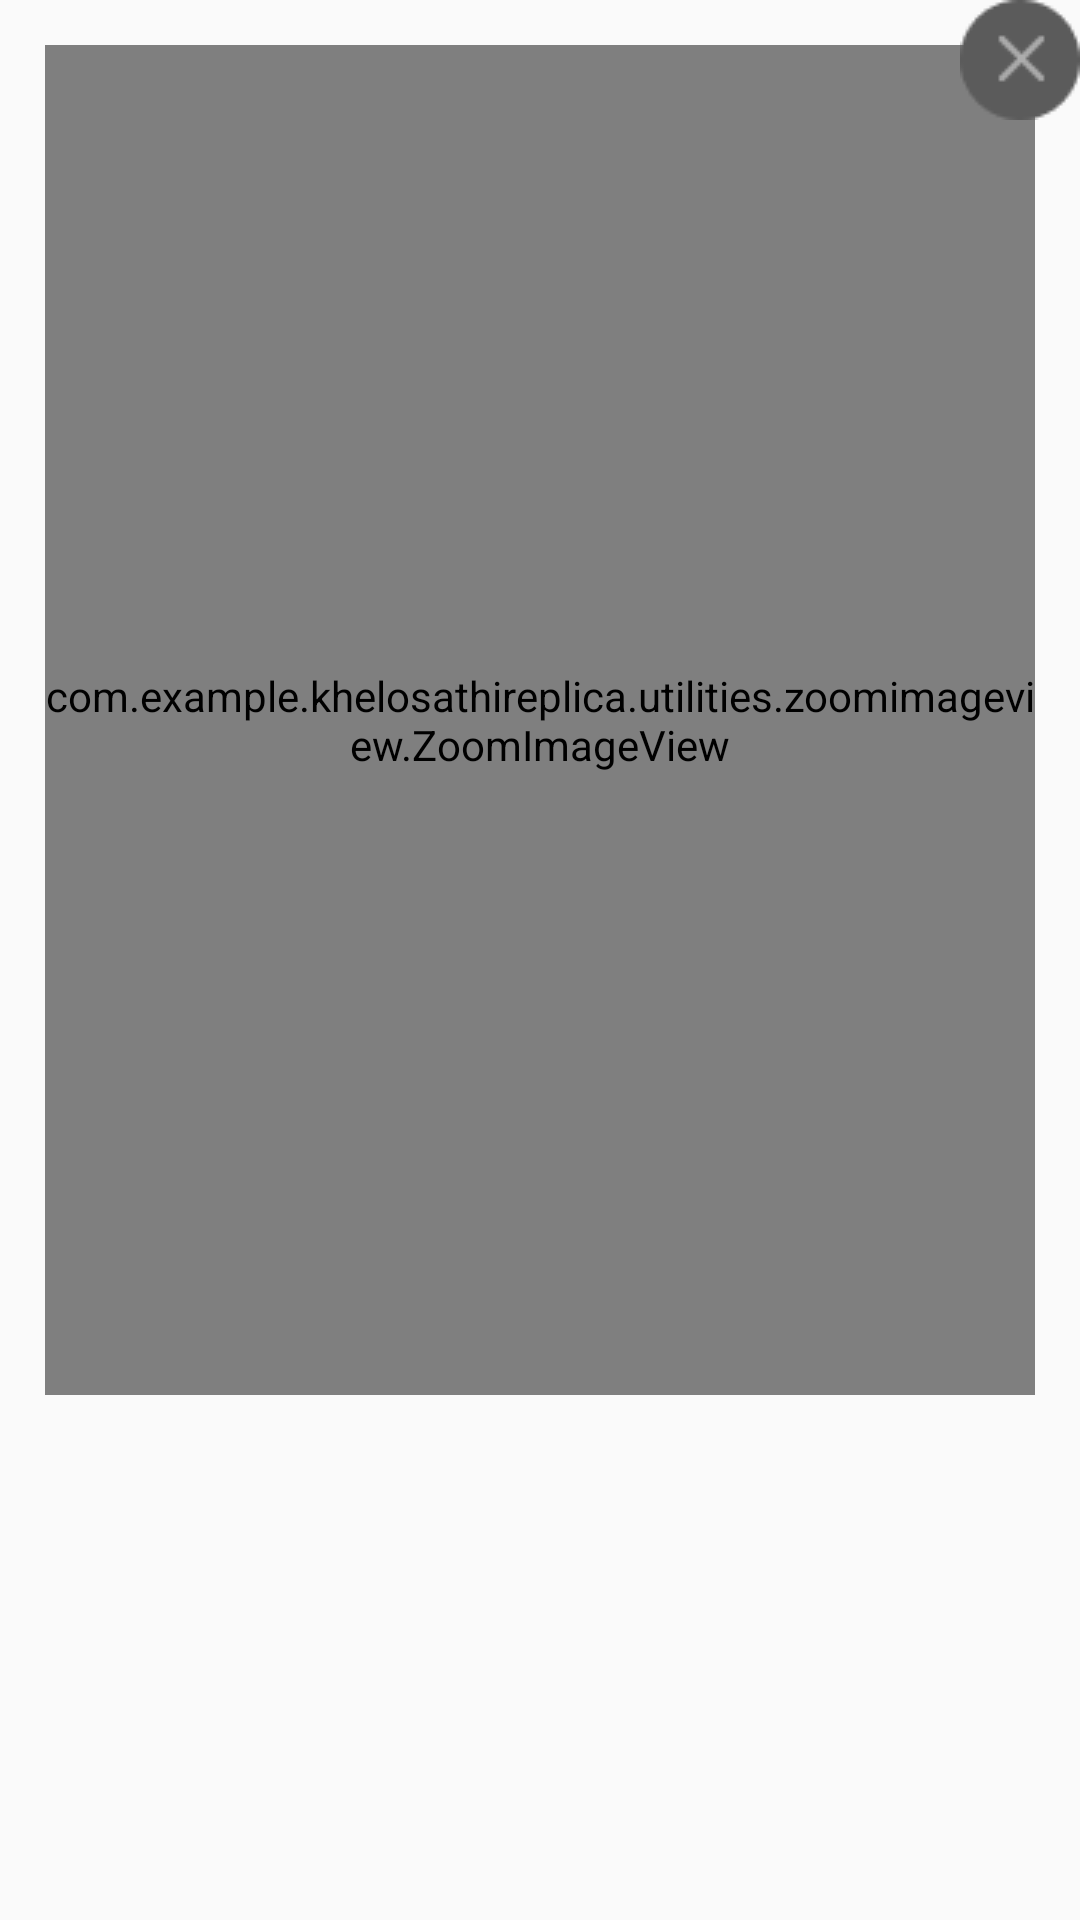

Icons on this 1080×1920 Android screen, each with the point to tap as (x,y):
cross: (1020,60)
